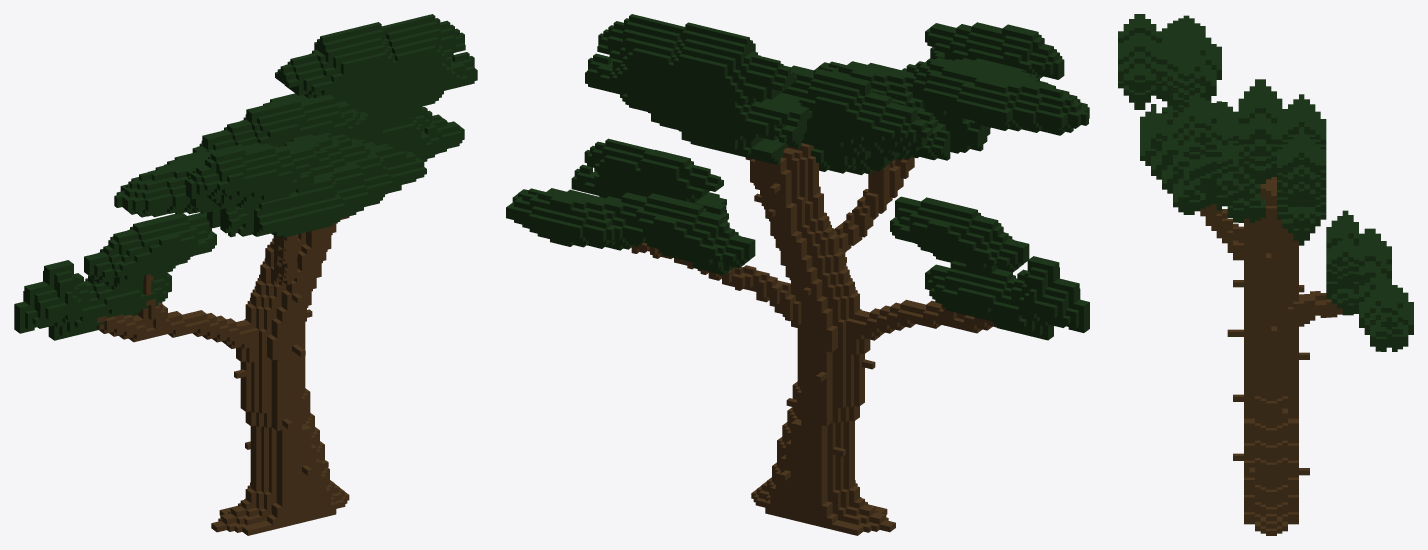
The model's file is Korean_tree_02.FBX.
3 renders of one model, left to right at view 1: azimuth 30°, elevation 25°; view 2: azimuth 150°, elevation 25°; view 3: azimuth 270°, elevation 25°, orthographic. The views are drawn at different scales.
Visible parts, largest first — view 1: Voxel_Korean_traditional village-28; view 2: Voxel_Korean_traditional village-28; view 3: Voxel_Korean_traditional village-28.
Part boxes in pixels (x1,y1,x2,y2): Voxel_Korean_traditional village-28: (14, 14, 477, 535); Voxel_Korean_traditional village-28: (506, 14, 1089, 535); Voxel_Korean_traditional village-28: (1118, 14, 1413, 535).
Bounding box in the file's own units: 101 × 87.98 × 53.99.
Materials: 1 (1 with a texture image).
